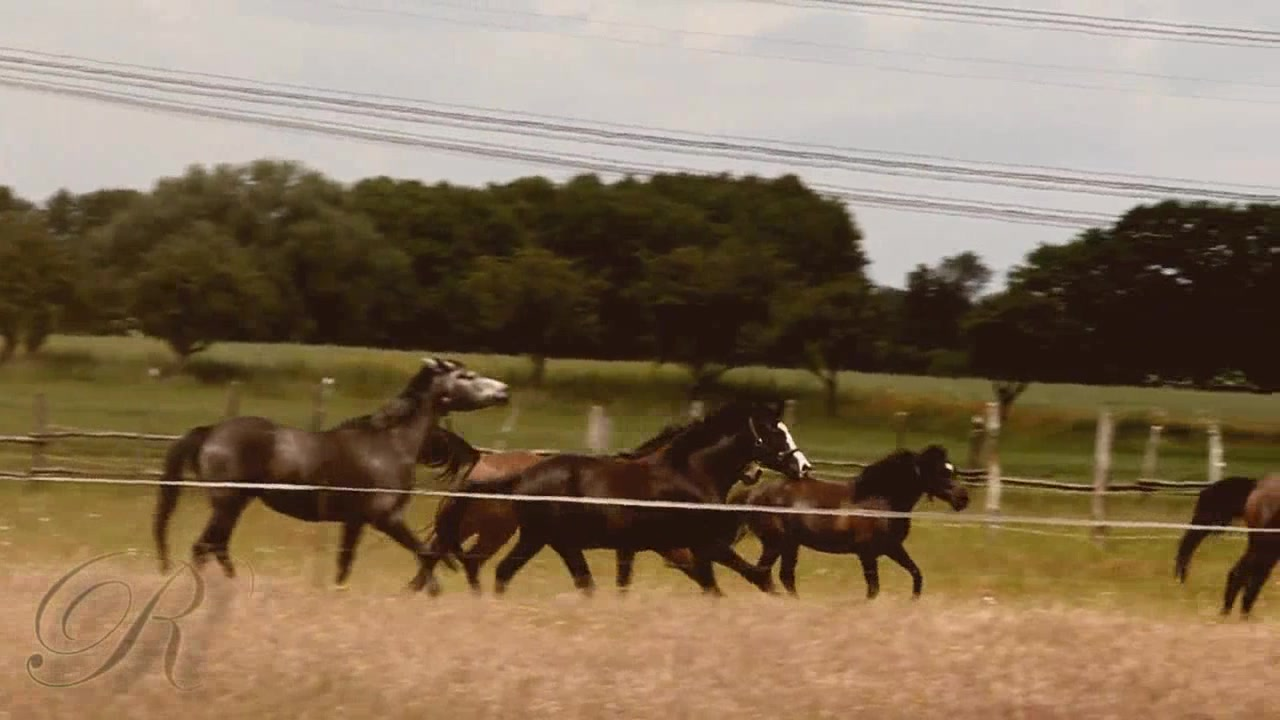horse: (410, 389, 818, 593), (153, 358, 514, 582), (740, 443, 978, 597), (407, 424, 556, 588), (1167, 470, 1280, 627)
